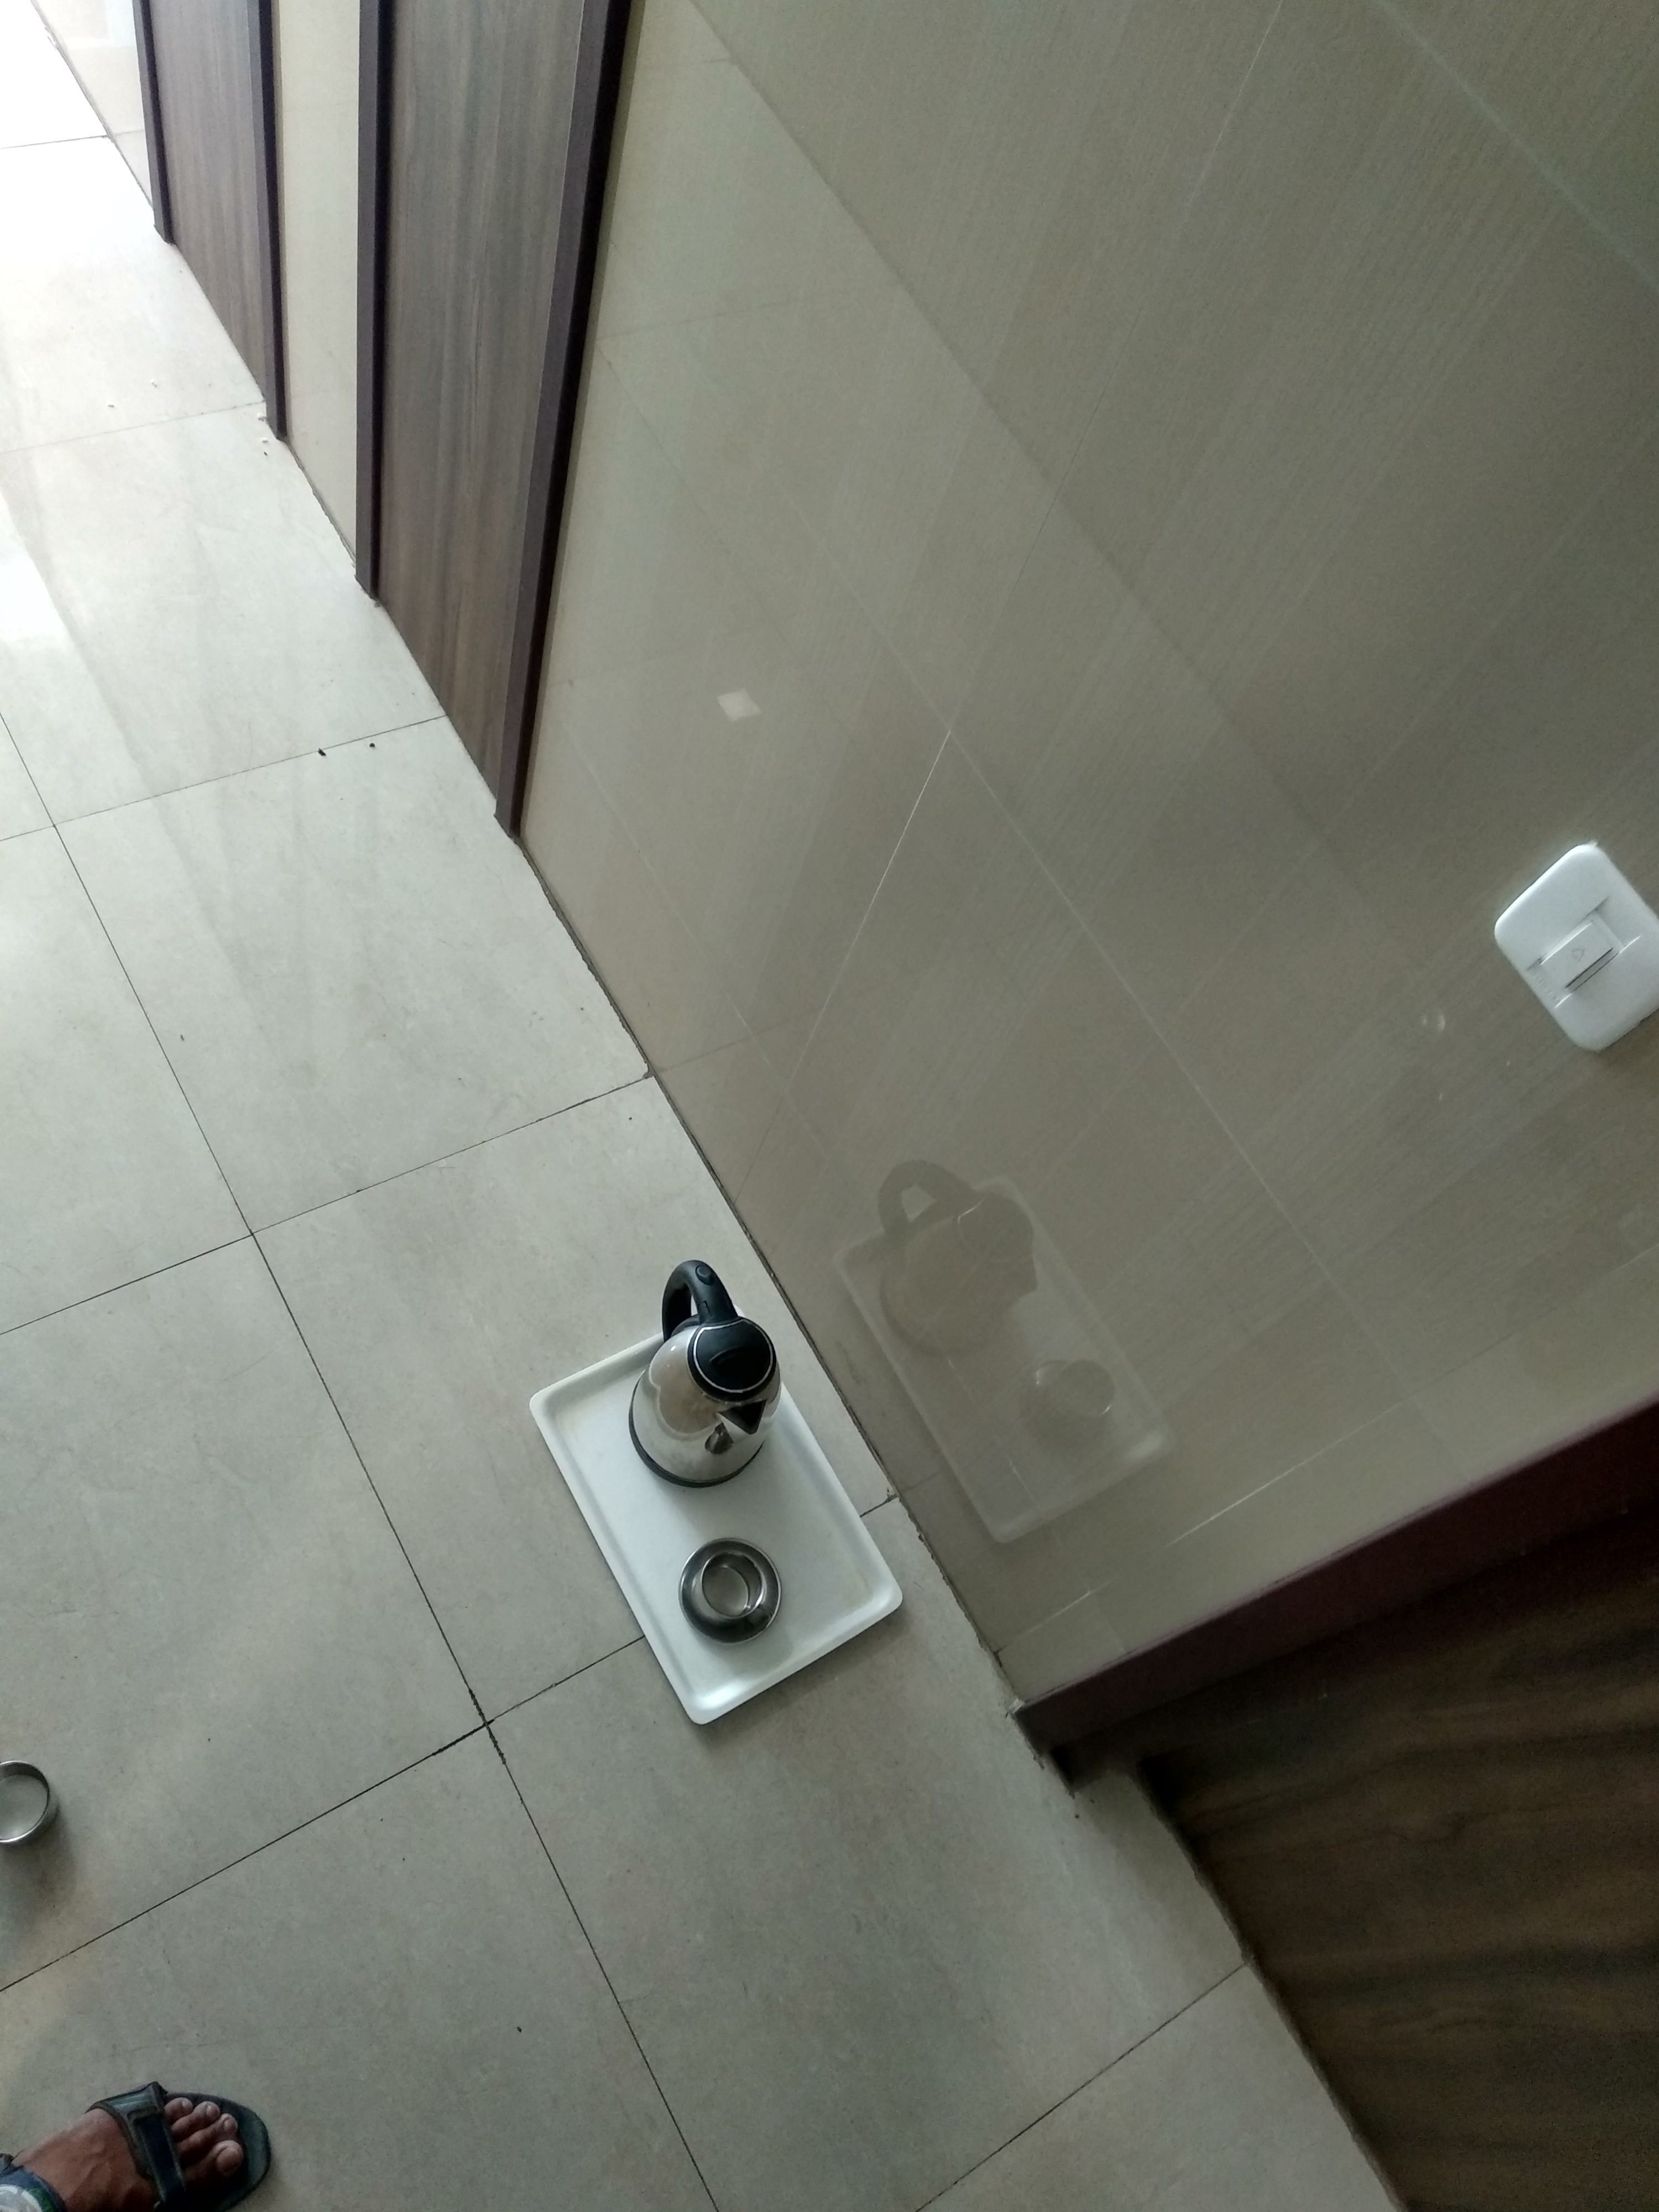CUP: (685, 1555, 772, 1637), (0, 1752, 66, 1846)
FLASK: (647, 1280, 779, 1484)
